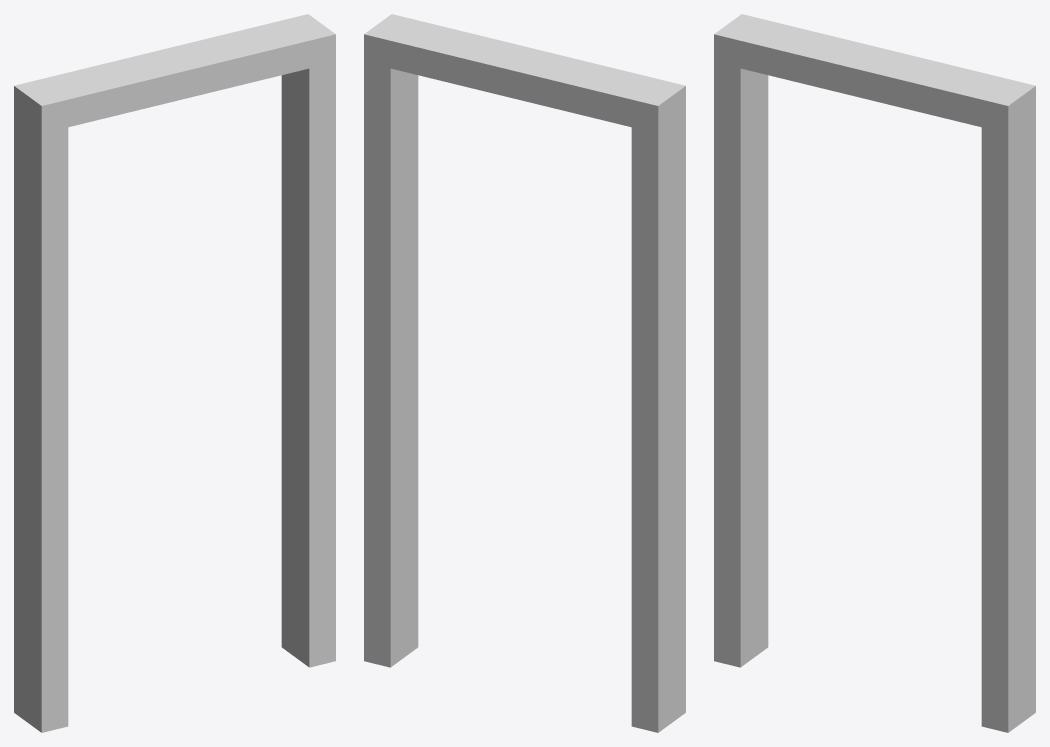
The model's file is DoorFrame_01.fbx.
The picture shows the model from 3 angles, left to right: view 1: azimuth 30°, elevation 25°; view 2: azimuth 150°, elevation 25°; view 3: azimuth 330°, elevation 25°; orthographic projection.
Parts seen in each view (by area): view 1: DoorFrame_01; view 2: DoorFrame_01; view 3: DoorFrame_01.
Boxes of the visible parts, x1,y1,x2,y2 form: DoorFrame_01: [14, 14, 335, 732]; DoorFrame_01: [364, 14, 685, 732]; DoorFrame_01: [714, 14, 1035, 732].
Size of the model in its own units: 111 by 226 by 18.12.
